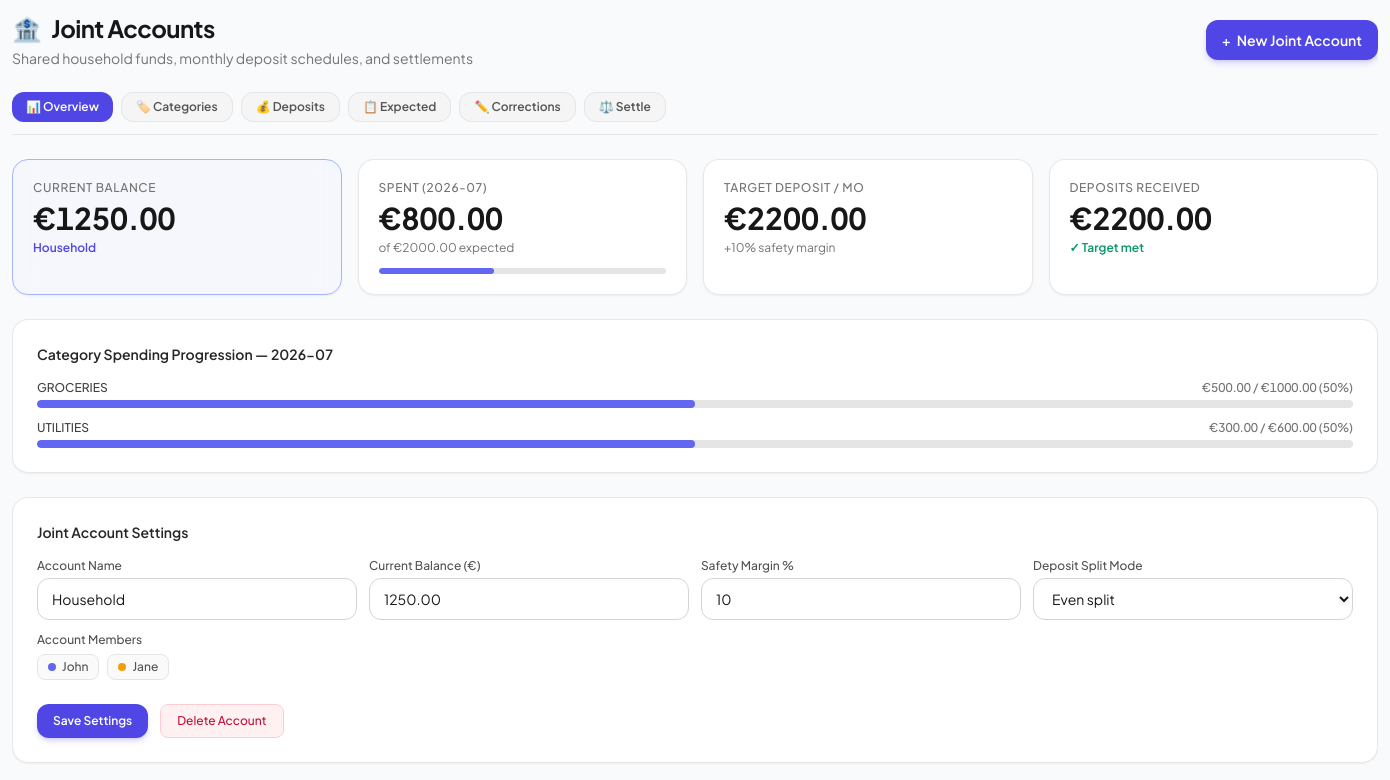
JointAccountTab.svelte — account exists › shows correction history when corrections exist (John deposit)
Click the button with id "ja-nav-corrections" at x=518, y=107, box [459, 92, 576, 122]
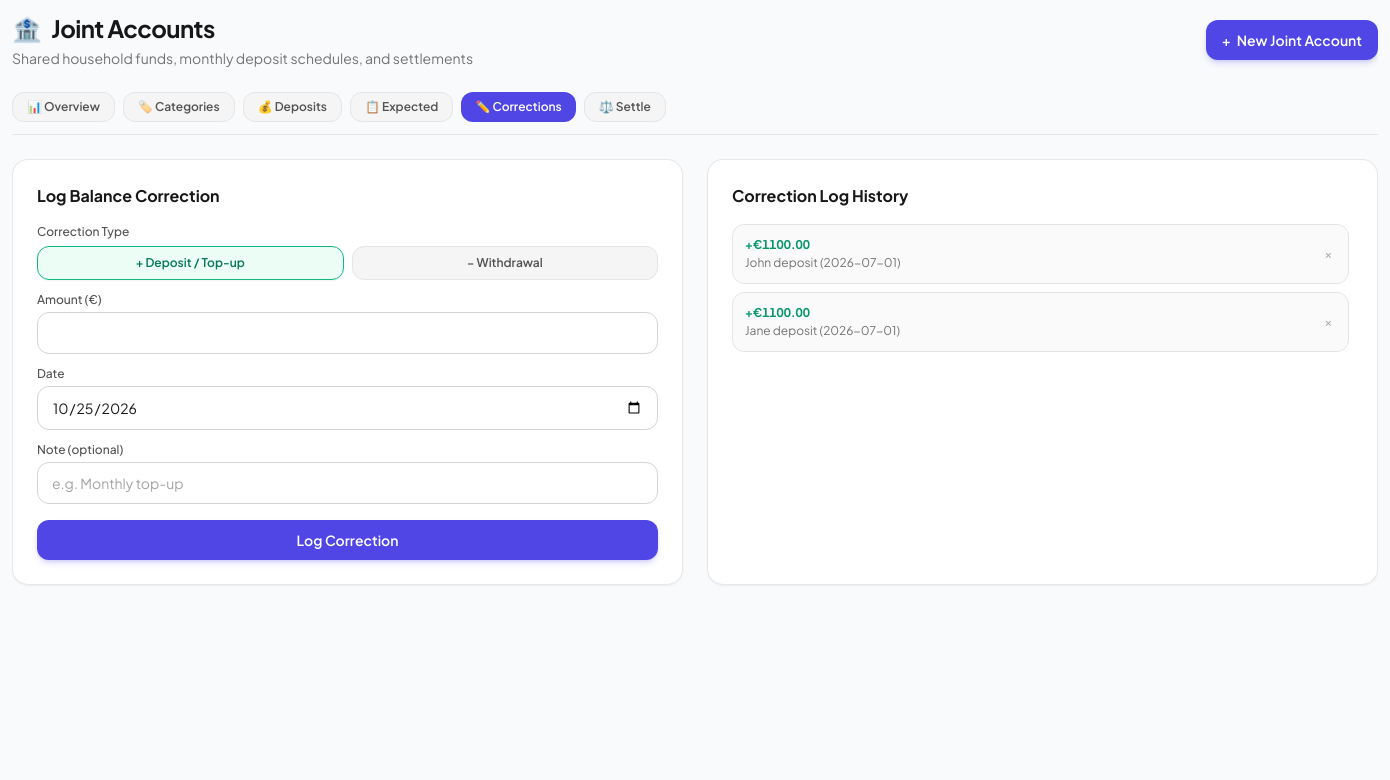
Expected: the text "John deposit (2026-07-01)" is shown, [745, 255, 901, 271]
Expected: the text "Jane deposit (2026-07-01)" is shown, [745, 323, 900, 339]
